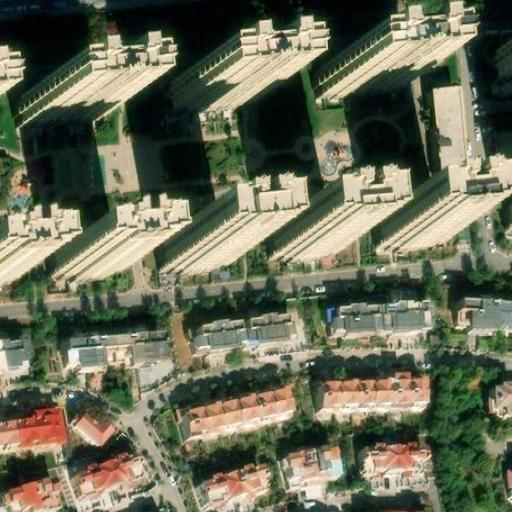building: (187, 400, 293, 444), (65, 339, 165, 381), (318, 57, 413, 101), (169, 74, 264, 116), (16, 88, 111, 129), (189, 465, 268, 512), (325, 383, 425, 418), (199, 322, 302, 355), (335, 310, 430, 343), (434, 85, 470, 169), (49, 250, 124, 289), (273, 224, 343, 265), (167, 231, 237, 272), (379, 213, 449, 253), (80, 463, 142, 504), (0, 418, 59, 458), (291, 461, 346, 495), (159, 317, 191, 363), (465, 309, 512, 340), (7, 488, 63, 512), (369, 453, 418, 480), (76, 417, 111, 451), (0, 348, 27, 378), (492, 391, 512, 426), (498, 193, 512, 240), (496, 53, 512, 83), (499, 461, 512, 497)
